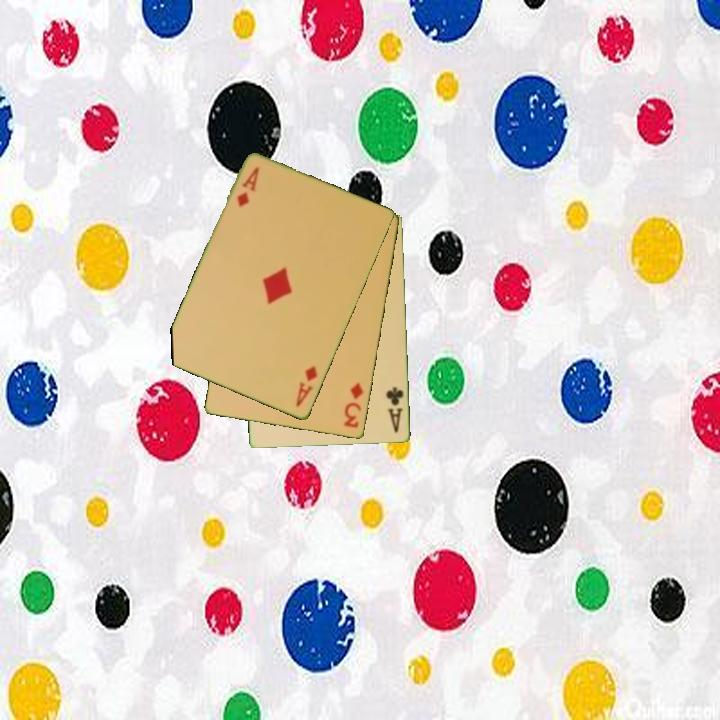3d: (340, 379, 367, 431)
Ac: (383, 384, 406, 436)
Ad: (292, 362, 320, 411), (234, 164, 262, 211)
